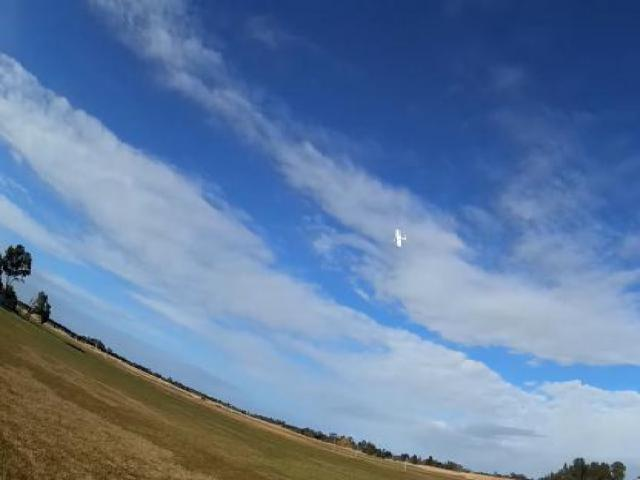uav: (385, 222, 412, 253)
